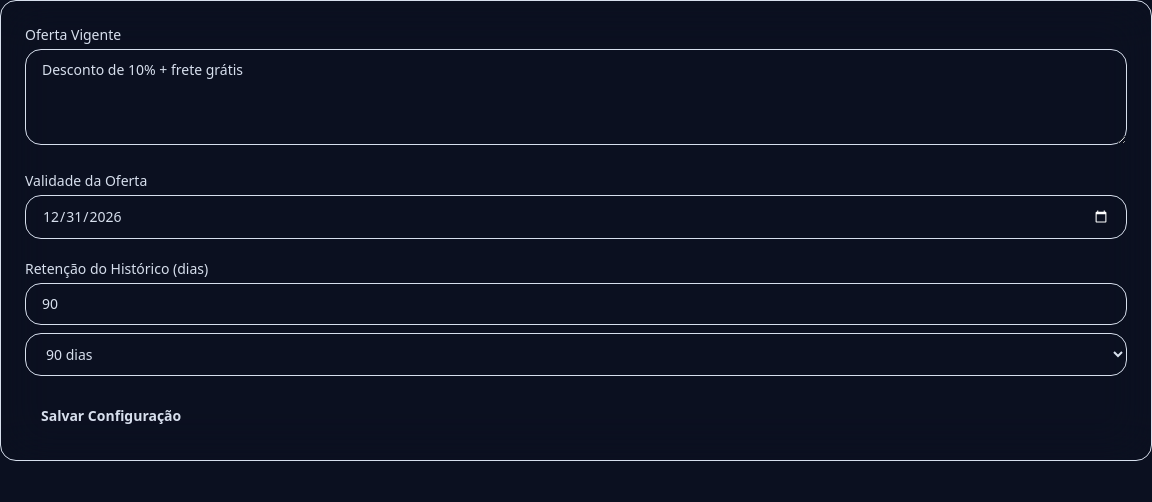
OfferForm › rejects an oferta validade in the past
Type "2020-01-01" into the date field labelled "Validade da Oferta" at (576, 217), box x1=25 y1=195 x2=1127 y2=239
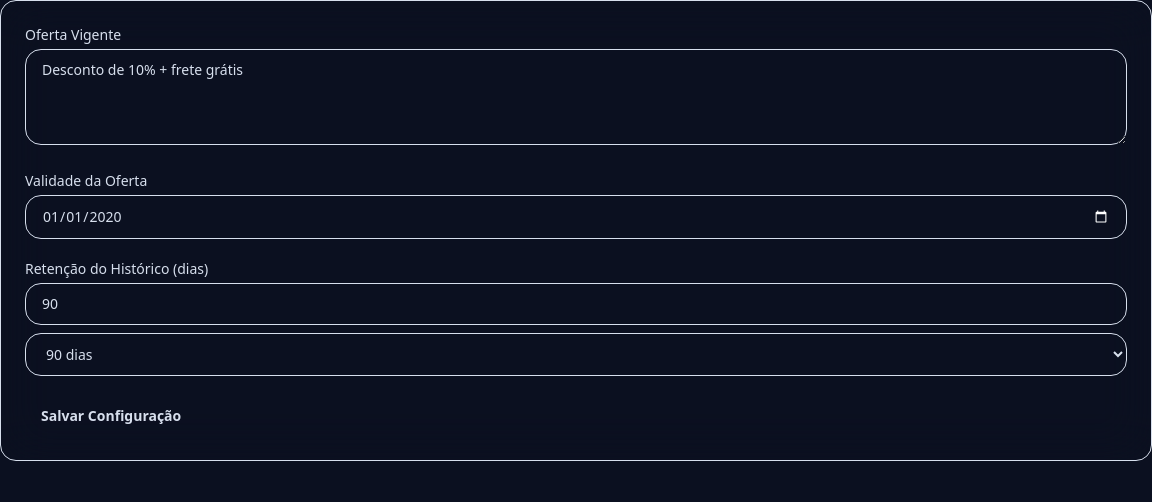
Click the button "Salvar Configuração" at (111, 416), box x1=25 y1=396 x2=197 y2=436
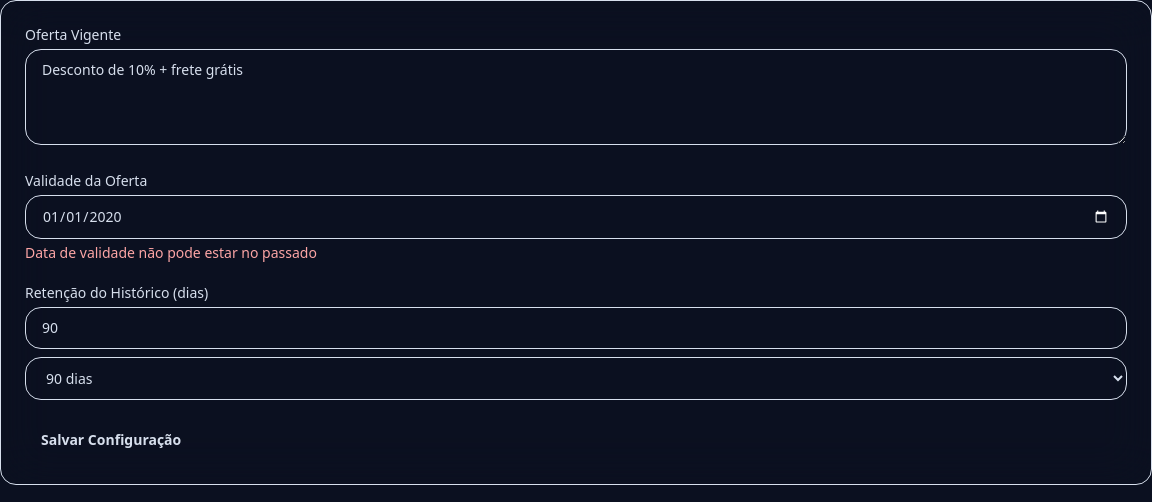
Result: the text "Data de validade não pode estar no passado" is shown at x1=25 y1=243 x2=317 y2=262
